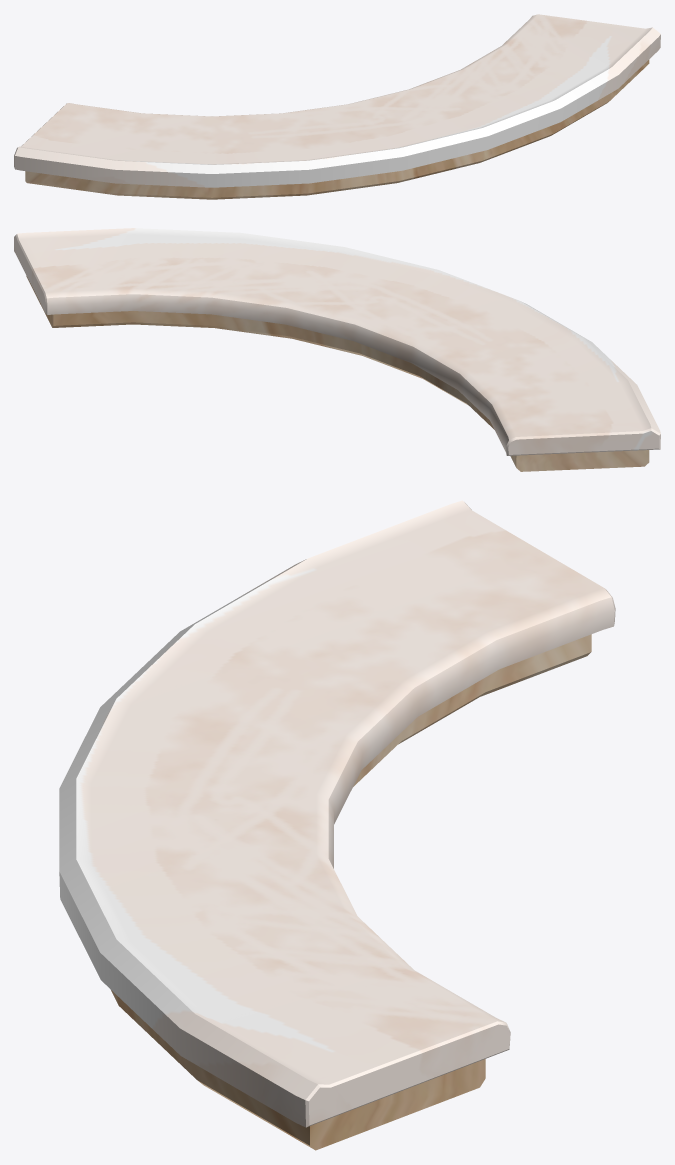
File: stand_l.fbx
The picture shows the model from 3 angles, top to bottom: view 1: azimuth 30°, elevation 25°; view 2: azimuth 150°, elevation 25°; view 3: azimuth 270°, elevation 25°; orthographic projection. The views are drawn at different scales.
Visible parts, largest first — view 1: stand_sizeL; view 2: stand_sizeL; view 3: stand_sizeL.
Part boxes in pixels (x1,y1,x2,y2): stand_sizeL: [14, 14, 660, 199]; stand_sizeL: [14, 228, 660, 471]; stand_sizeL: [59, 500, 615, 1150].
Bounding box in the file's own units: 972 × 56.16 × 384.
Materials: 1 (1 with a texture image).
